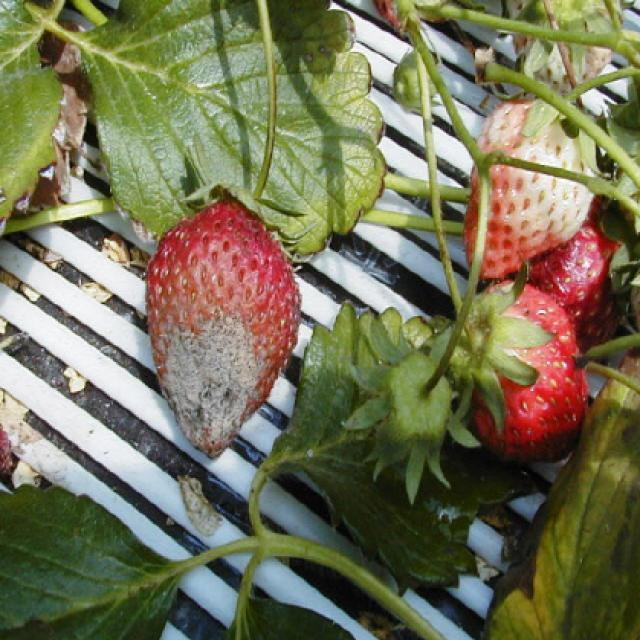Gray Mold: (147, 261, 304, 461)
